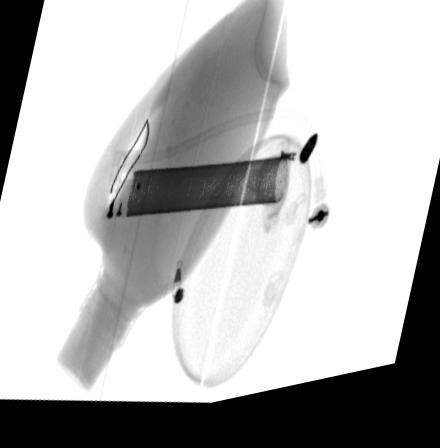Bullet: (298, 143, 319, 178)
